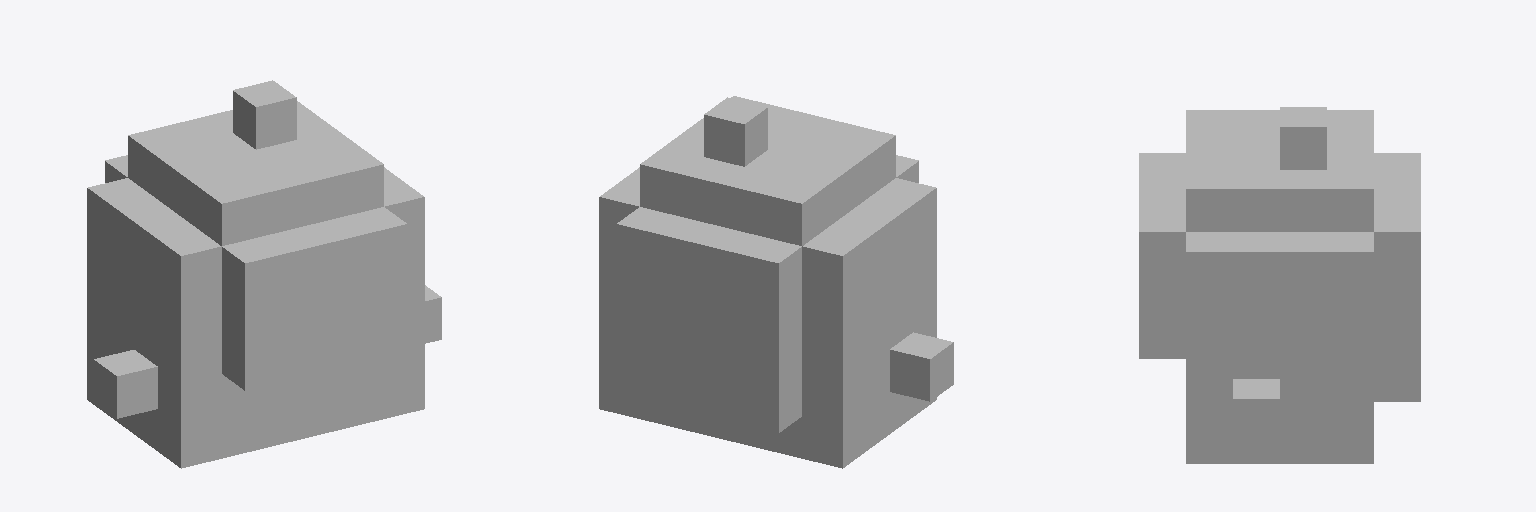
File: Head 10.obj
3 views of the same model, side by side, from view 1: azimuth 30°, elevation 25°; view 2: azimuth 150°, elevation 25°; view 3: azimuth 270°, elevation 25° (orthographic).
Bounding box in the file's own units: 8 × 7 × 6.